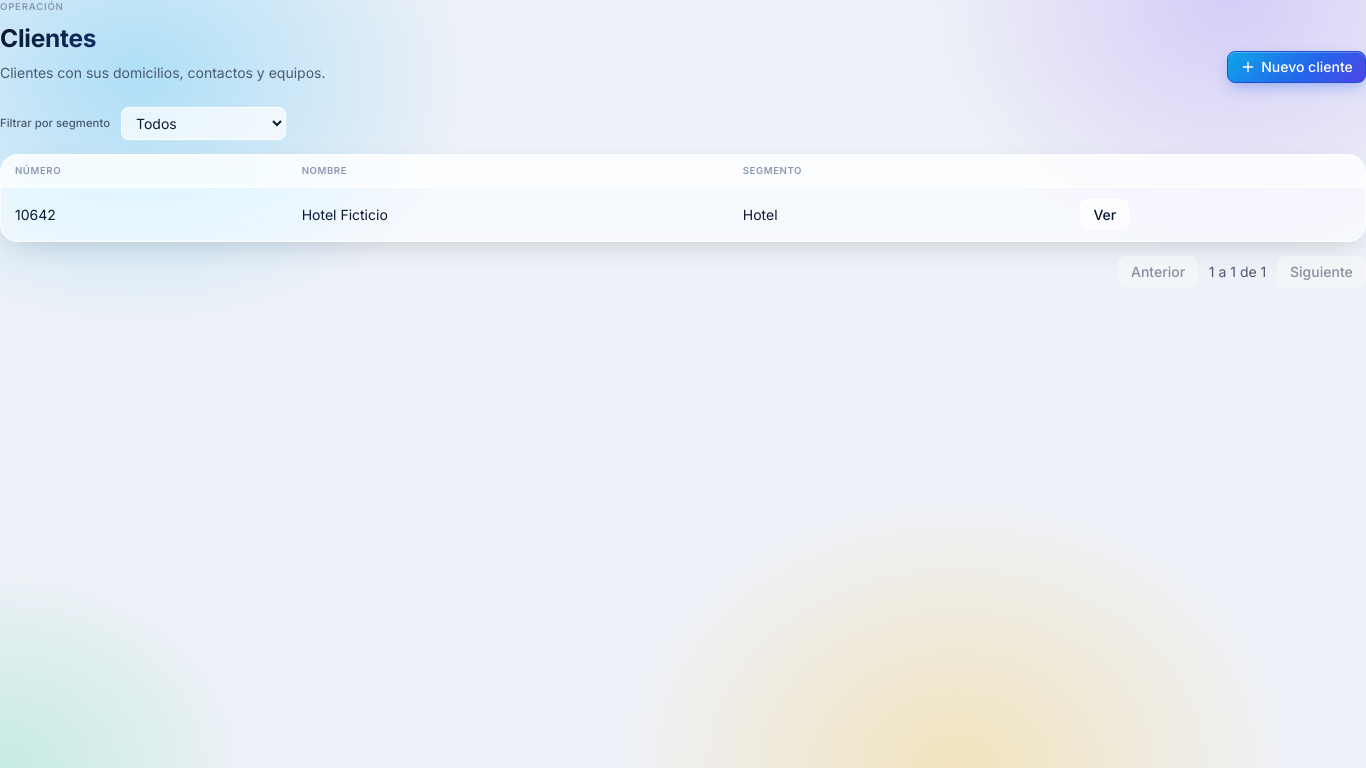
Scenario: ClientsPage › domicilios (E03-02) › lista activos e inactivos con su enlace al mapa
Click the button with aria-label "Ver Hotel Ficticio" at (1105, 215), box [1080,199,1130,230]
(page scrolled)
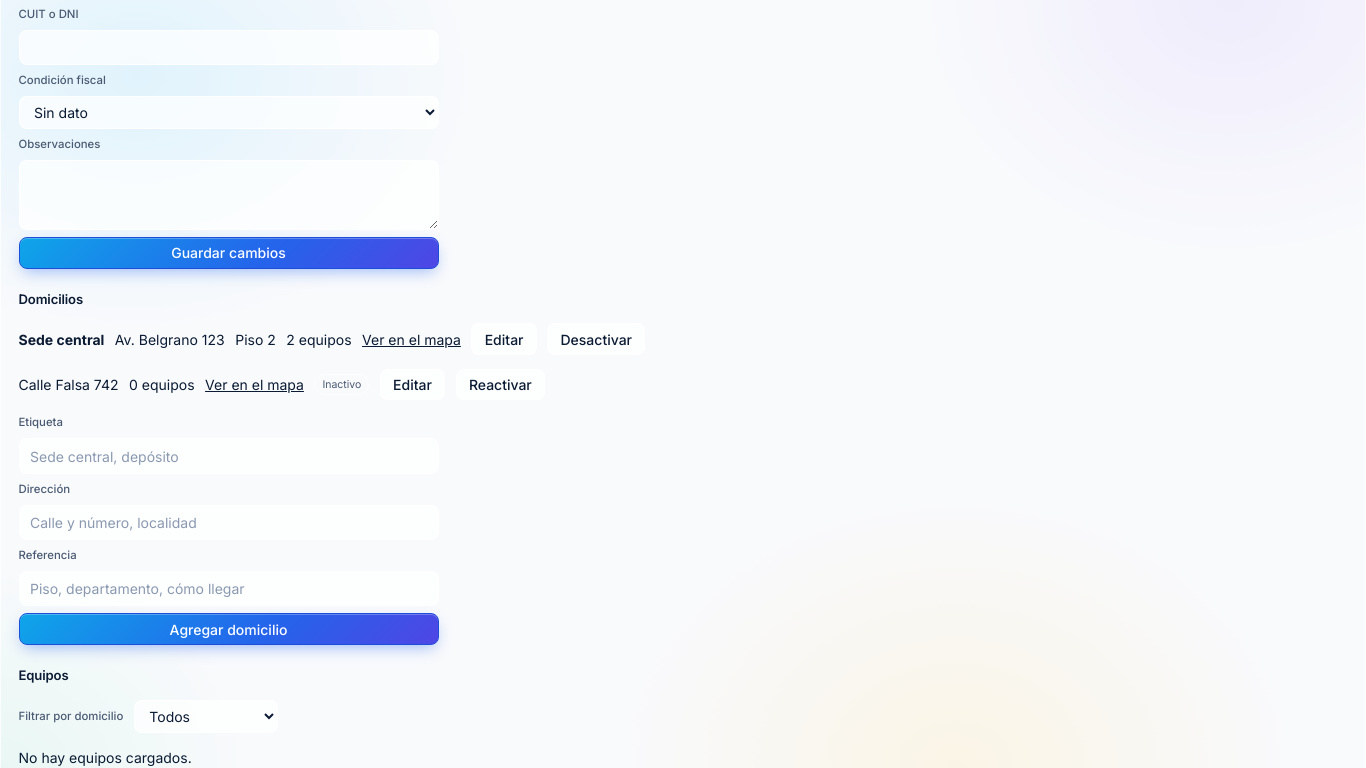
Expected: the text "Av. Belgrano 123" is shown, [115,329,225,350]
Expected: the text "Piso 2" is shown, [235,329,276,350]
Expected: the text "Inactivo" is shown, [314,374,369,395]
